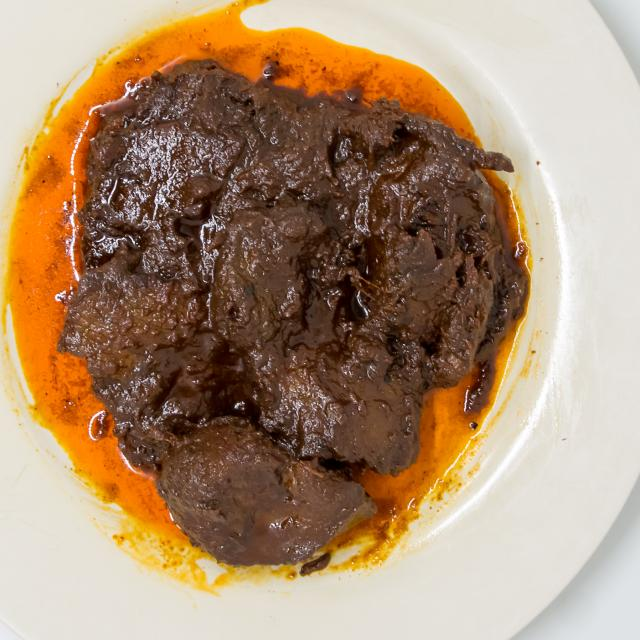Rendang: (63, 47, 537, 574)
